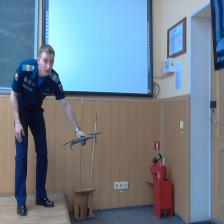drone: (63, 129, 106, 151)
